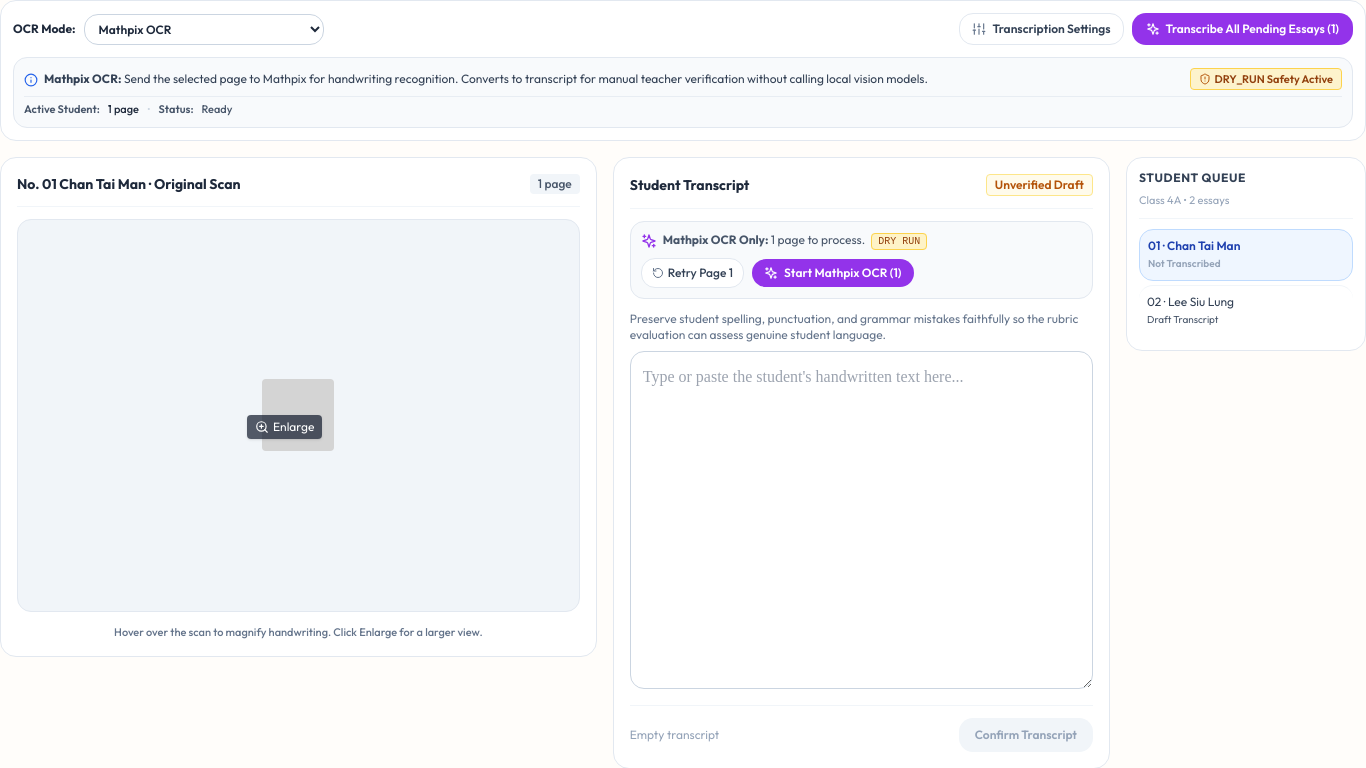
Qwen VL OCR — Local only Option & Pipeline Requirements › 2. Qwen VL Only: Zero Mathpix calls across Batch, Student, and Page Retry › fails visibly when OCR prompt file is missing or invalid, with no silent fallback
Select "Qwen VL OCR — Local only" in the dropdown labelled "OCR Mode:" at (204, 29), box top-left (84, 14), bottom-right (324, 44)
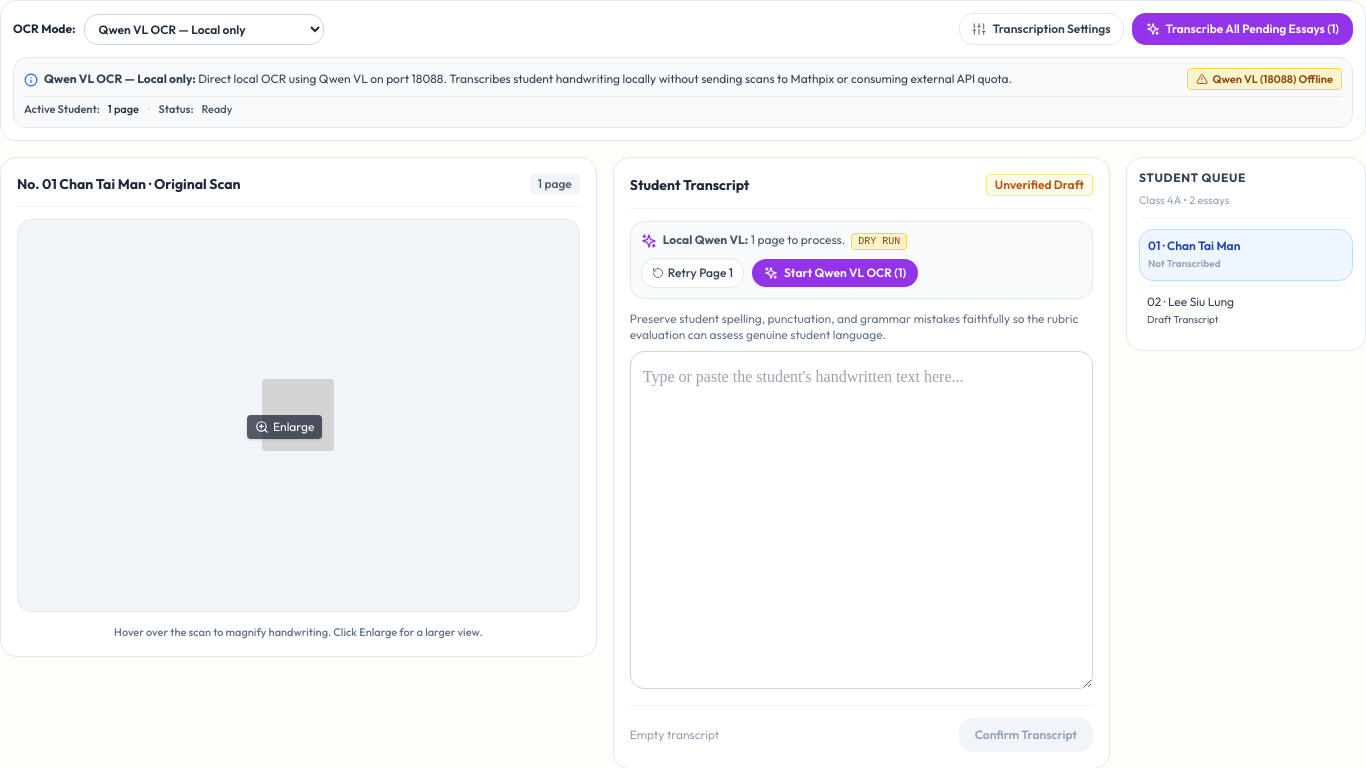
Click the button "Start Qwen VL OCR (1)" at (835, 273), box top-left (752, 259), bottom-right (918, 287)
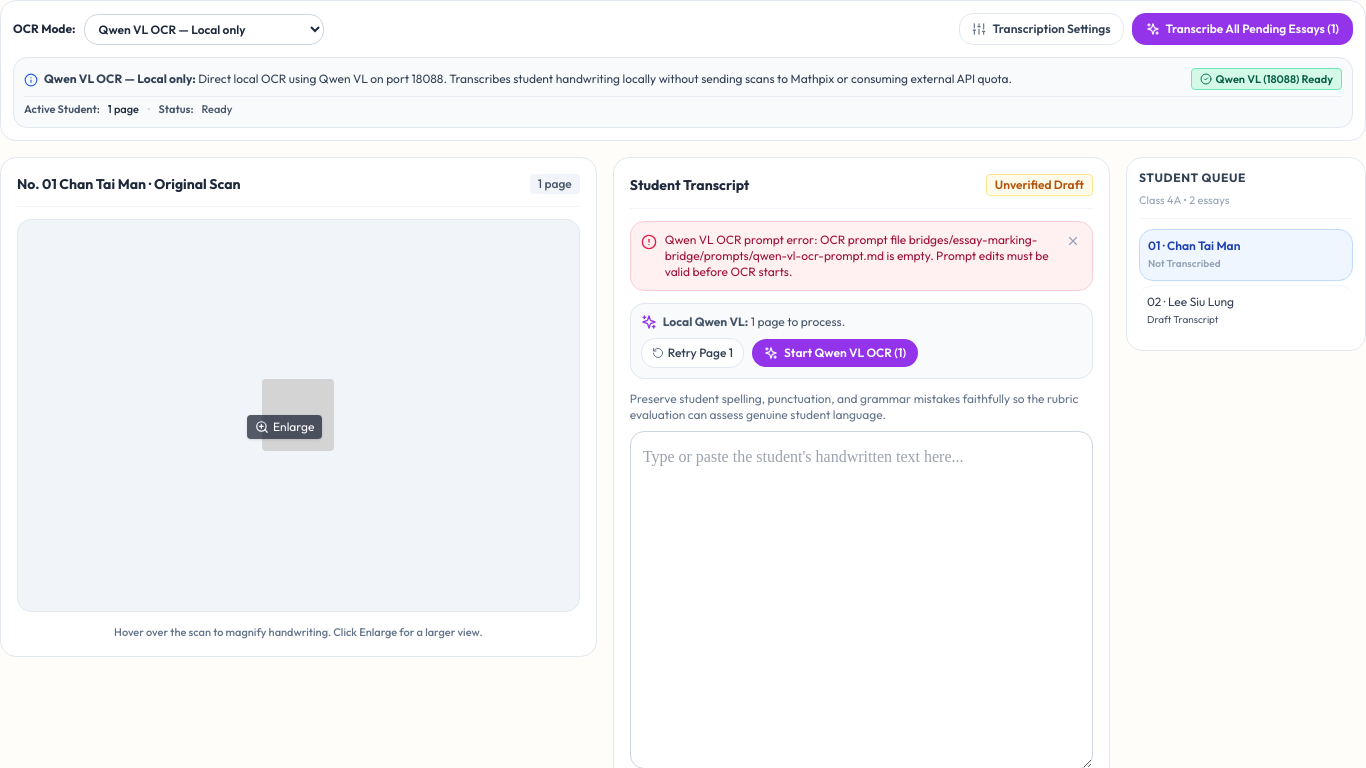
Expected: the text "Qwen VL OCR prompt error" is shown, top-left (665, 232), bottom-right (1049, 279)
